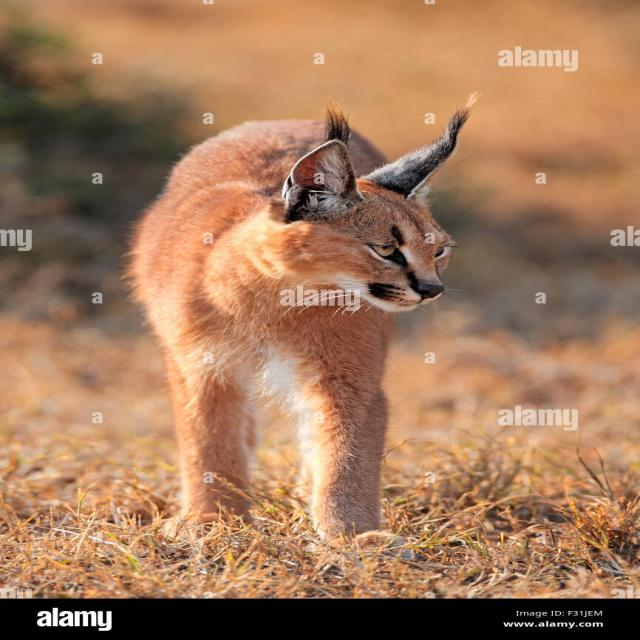Carnivorous: (126, 95, 479, 544)
